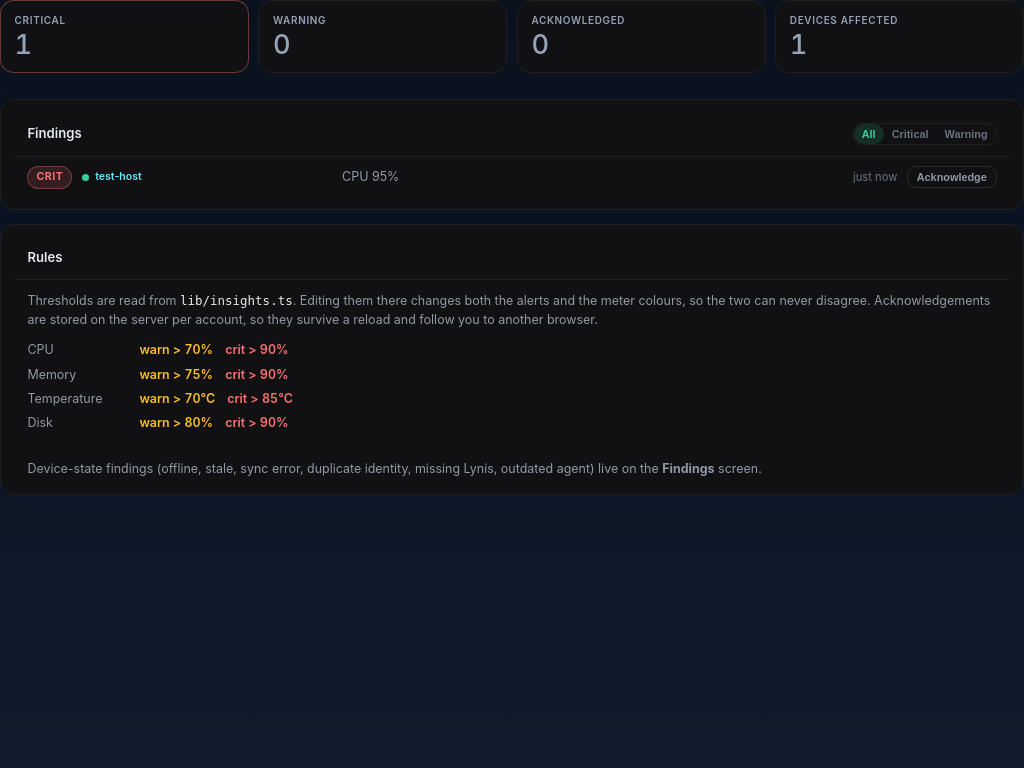
Alerts screen › renders a finding and persists the acknowledgement
Expected: the text "CPU 95%" is shown, [342,169,399,184]
Click the button "Acknowledge".
click(952, 177)  # box [907,166,997,188]
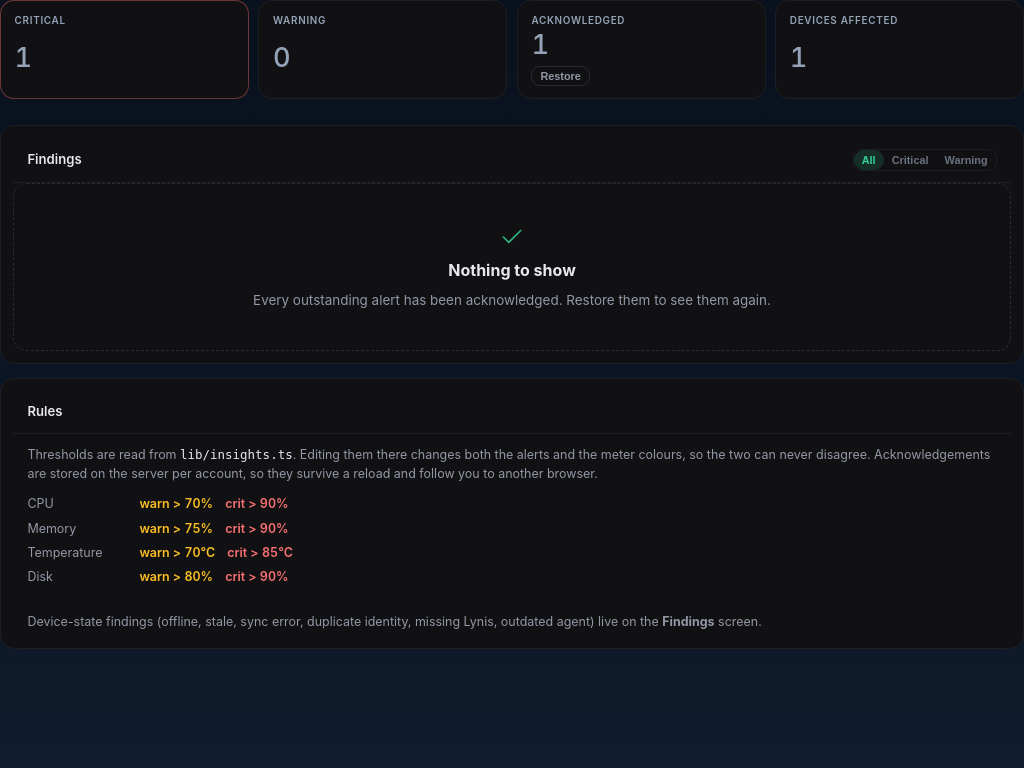
Result: the text "CPU 95%" is gone
